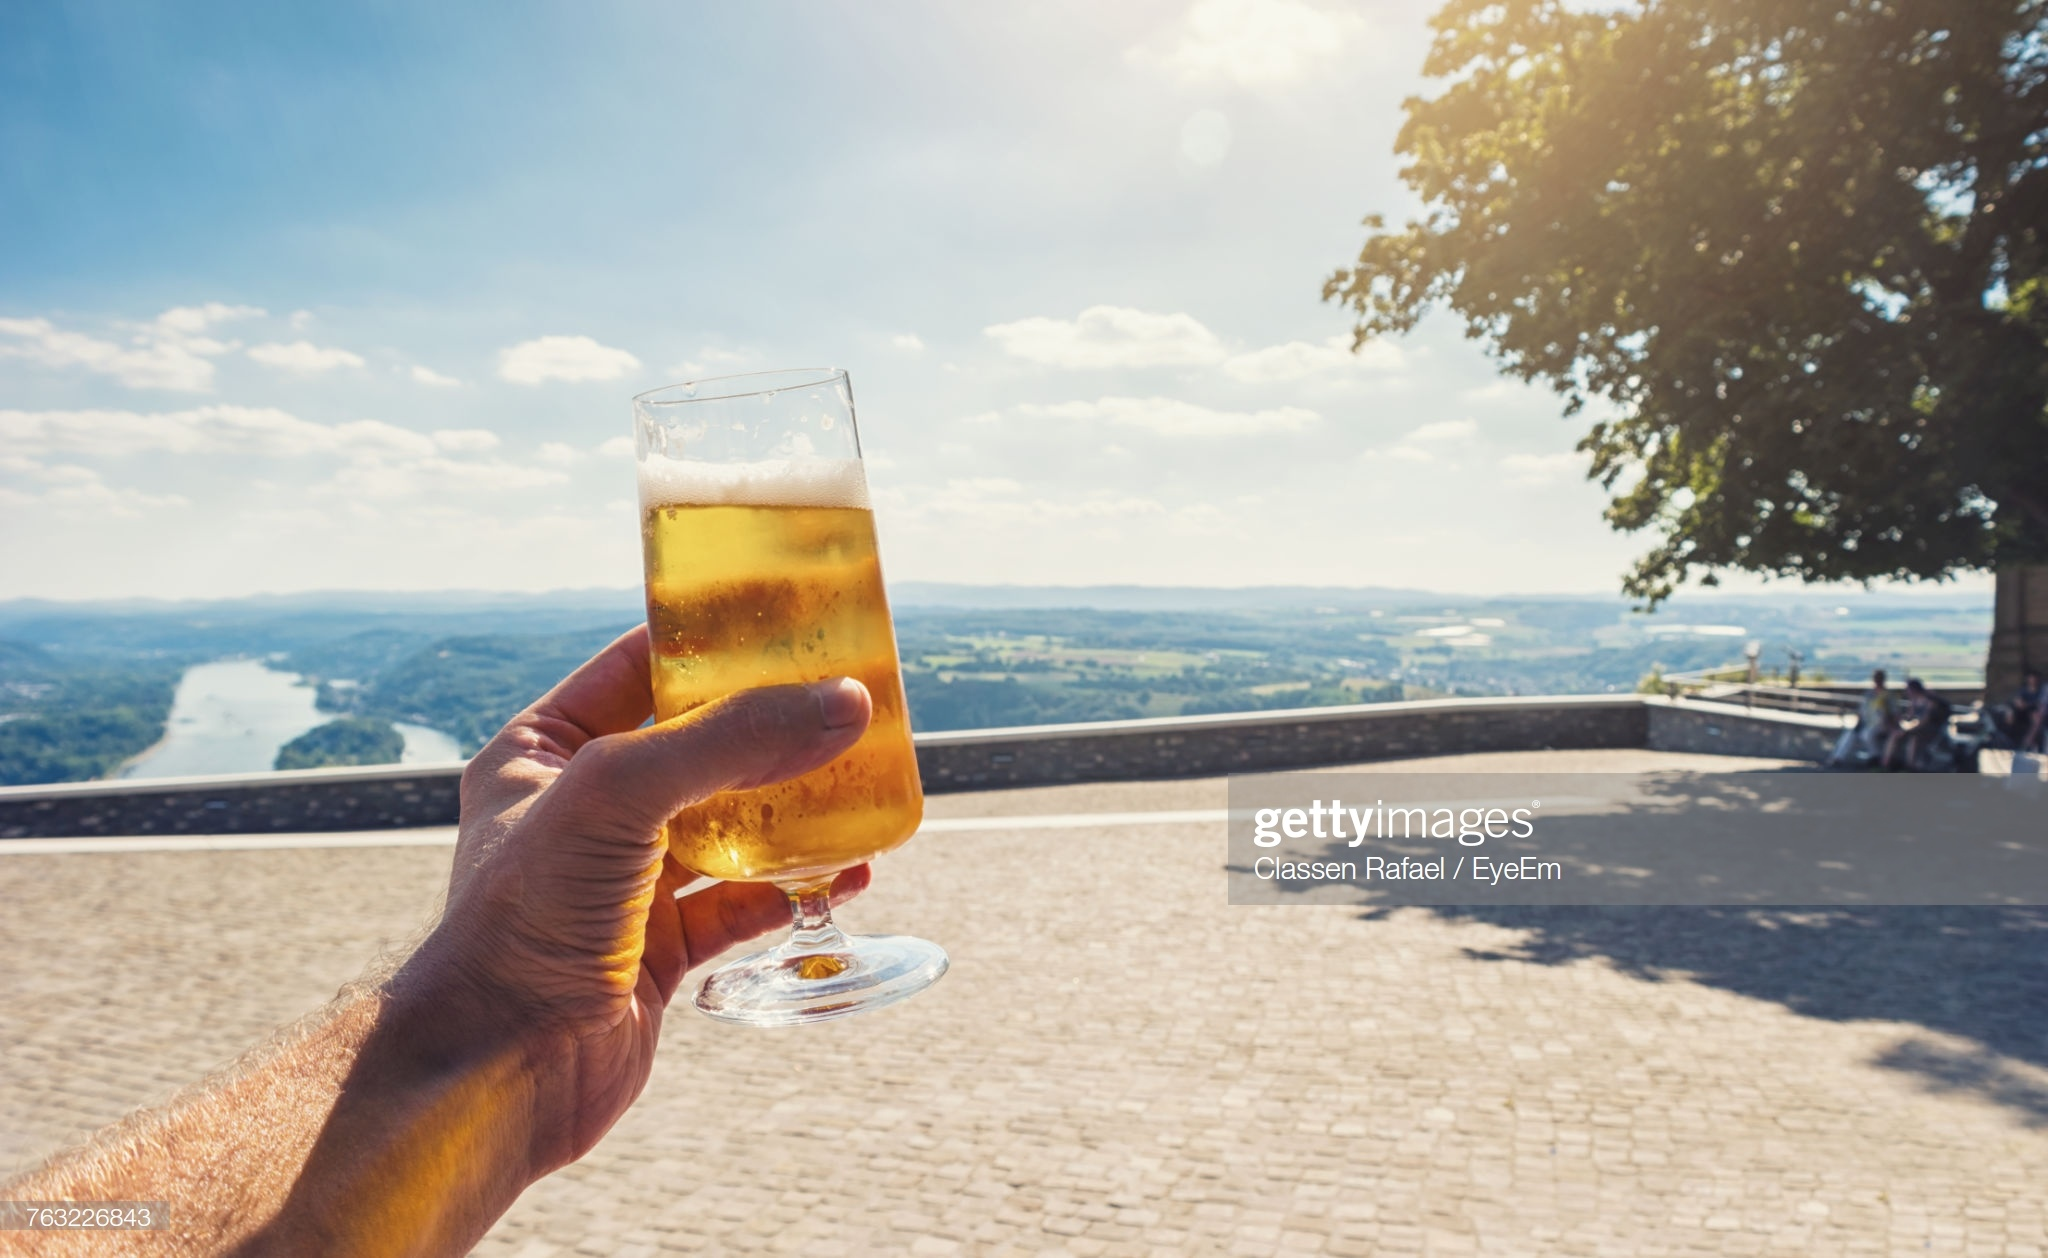glassBeer: (650, 347, 922, 970)
